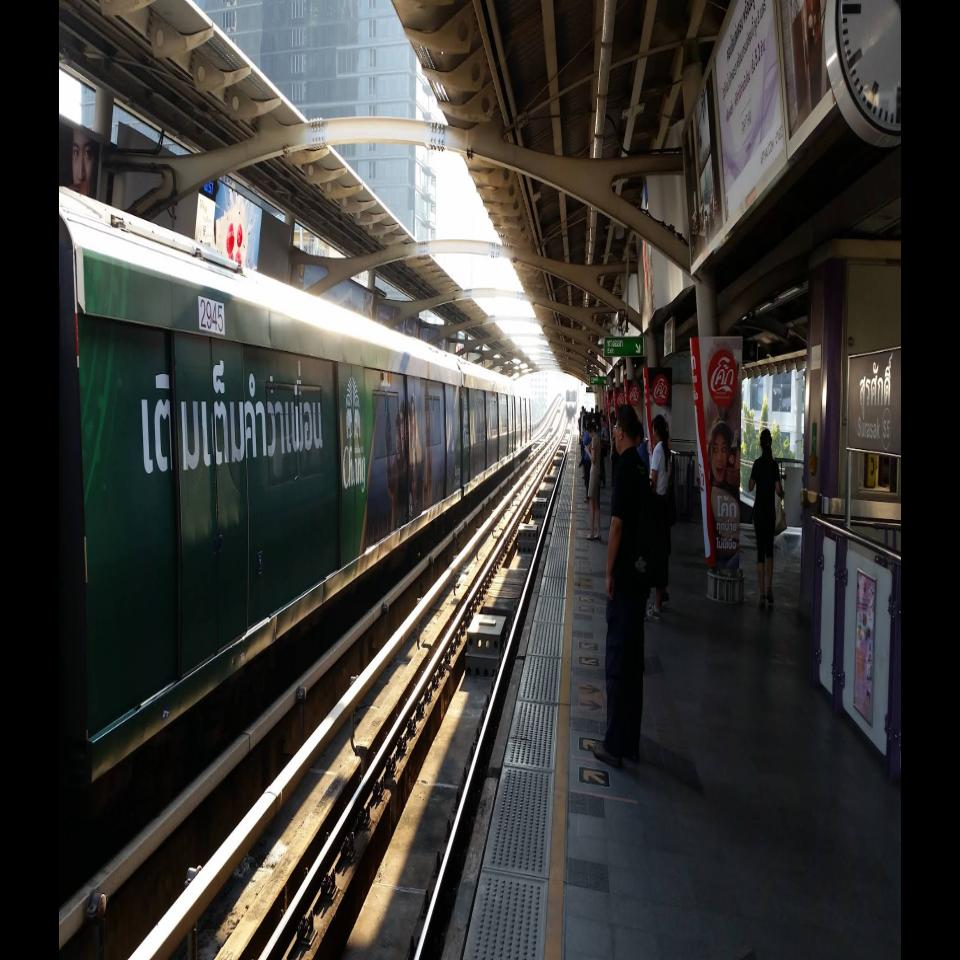Surasak: (845, 345, 902, 458)
